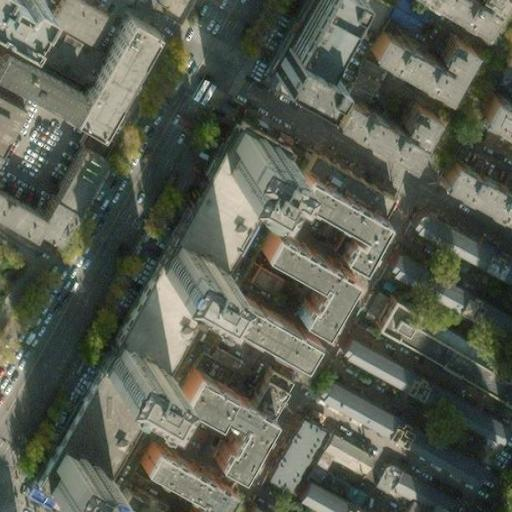building: (22, 112, 280, 483), (332, 333, 506, 446), (309, 375, 478, 486), (372, 295, 512, 407), (172, 359, 271, 467), (254, 218, 352, 325), (55, 3, 141, 120), (0, 137, 96, 238), (286, 165, 385, 259), (352, 13, 462, 85), (315, 82, 422, 154), (217, 287, 317, 363), (138, 438, 235, 512), (350, 452, 460, 512), (433, 151, 512, 219), (299, 150, 387, 211), (407, 207, 490, 270), (214, 123, 279, 190), (275, 0, 342, 58), (41, 444, 101, 508), (262, 414, 316, 484), (146, 237, 212, 293), (269, 58, 330, 110), (292, 473, 372, 512), (96, 335, 154, 385), (299, 455, 359, 499), (307, 426, 367, 469), (345, 52, 391, 102), (240, 350, 283, 399), (473, 98, 512, 143), (385, 249, 427, 288), (0, 91, 24, 155), (204, 338, 243, 370)
